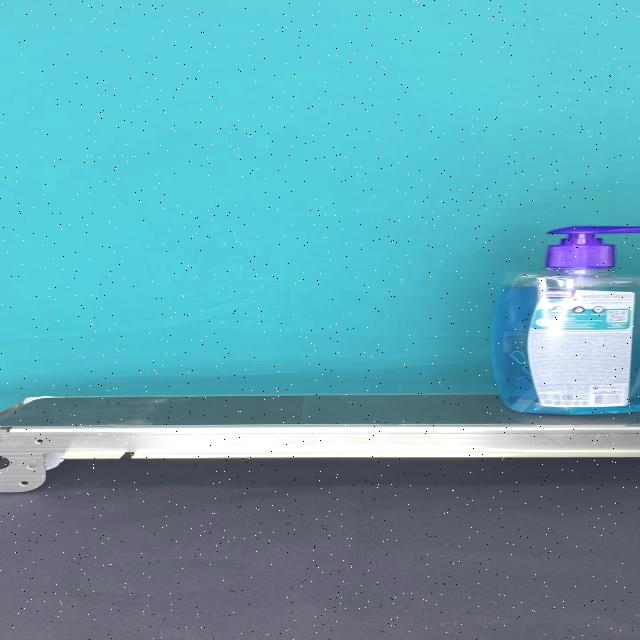Bottle: (493, 226, 640, 414)
Cap: (543, 225, 640, 267)
